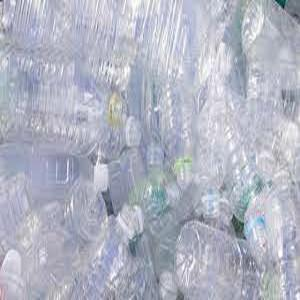Plastic: (1, 139, 111, 194), (155, 80, 200, 184)
